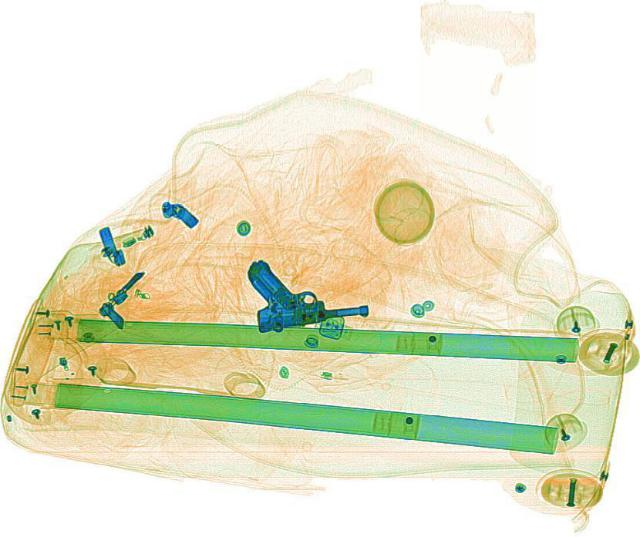Gun: (236, 243, 372, 334)
